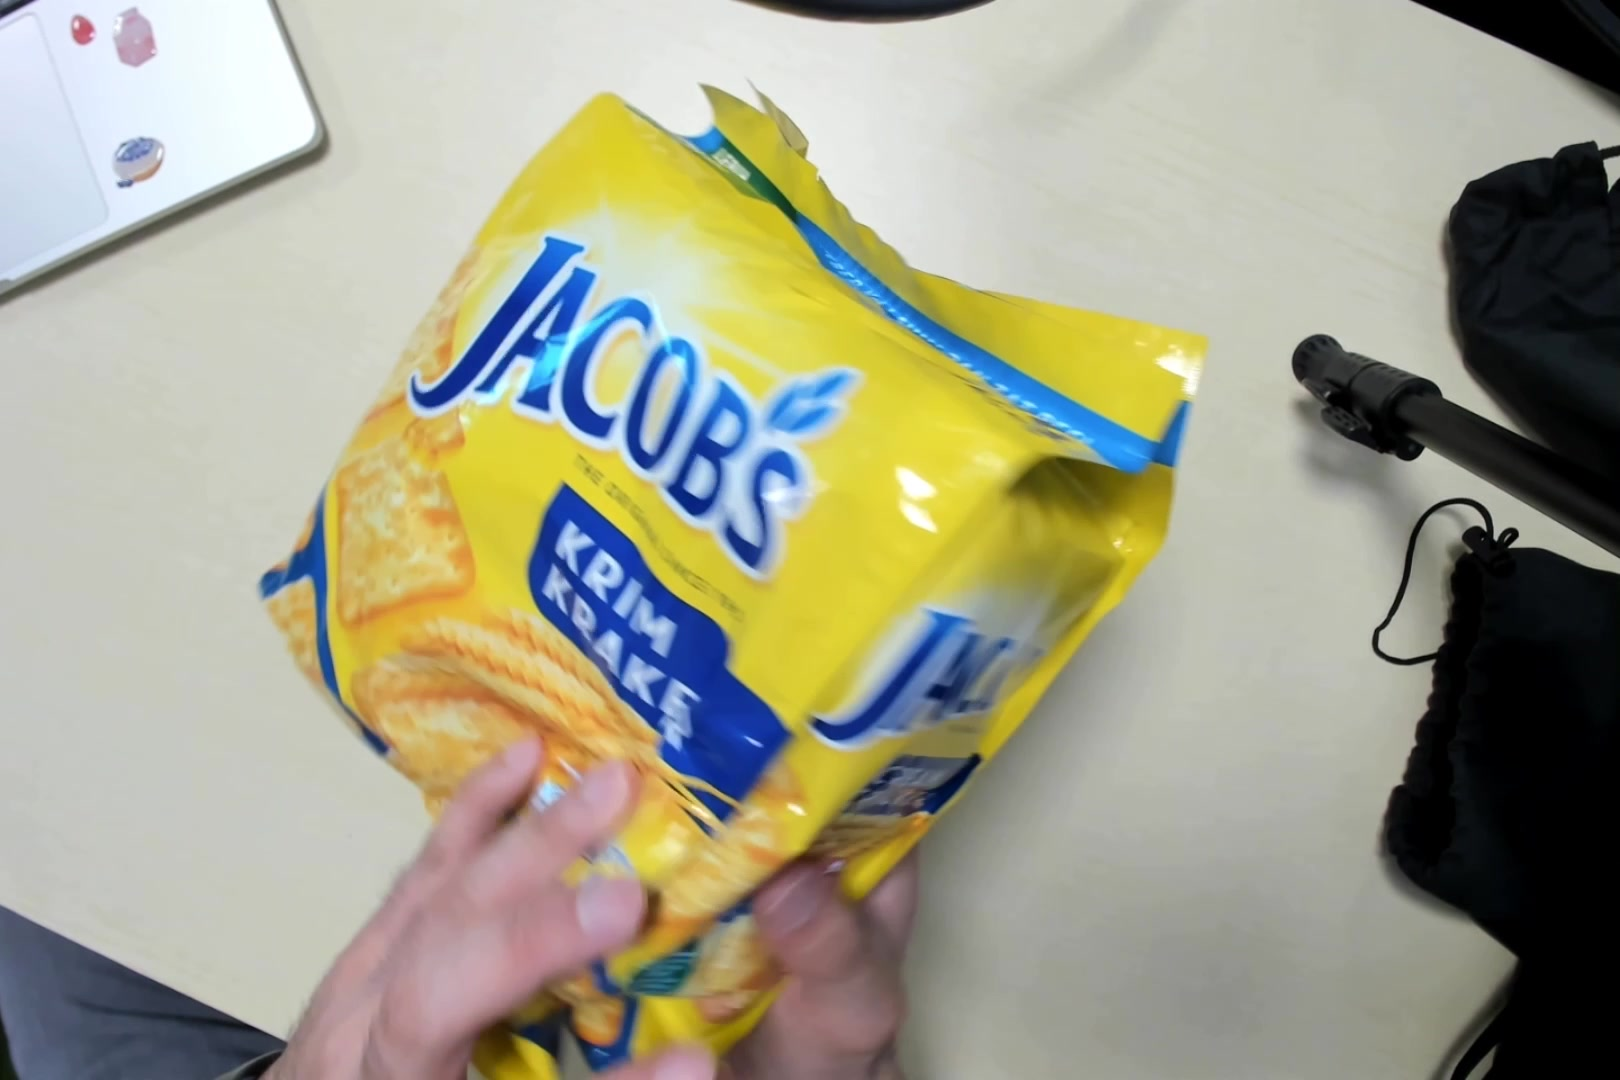BiscuitCrackersCookies_500-599g_Halal_NonHealthy: (269, 107, 1182, 1080)
